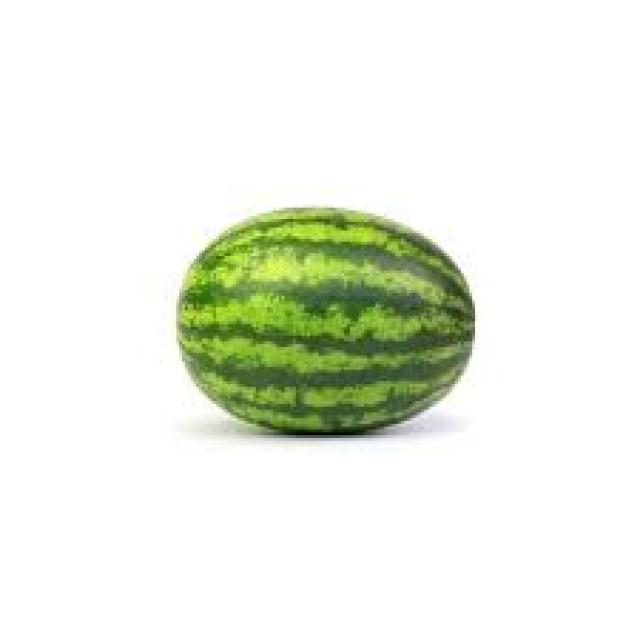watermelon: (174, 202, 475, 435)
